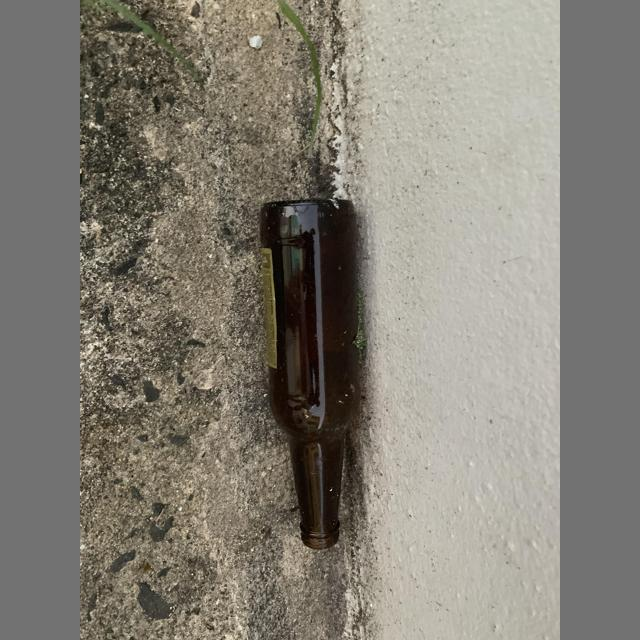litter: (259, 199, 361, 549)
